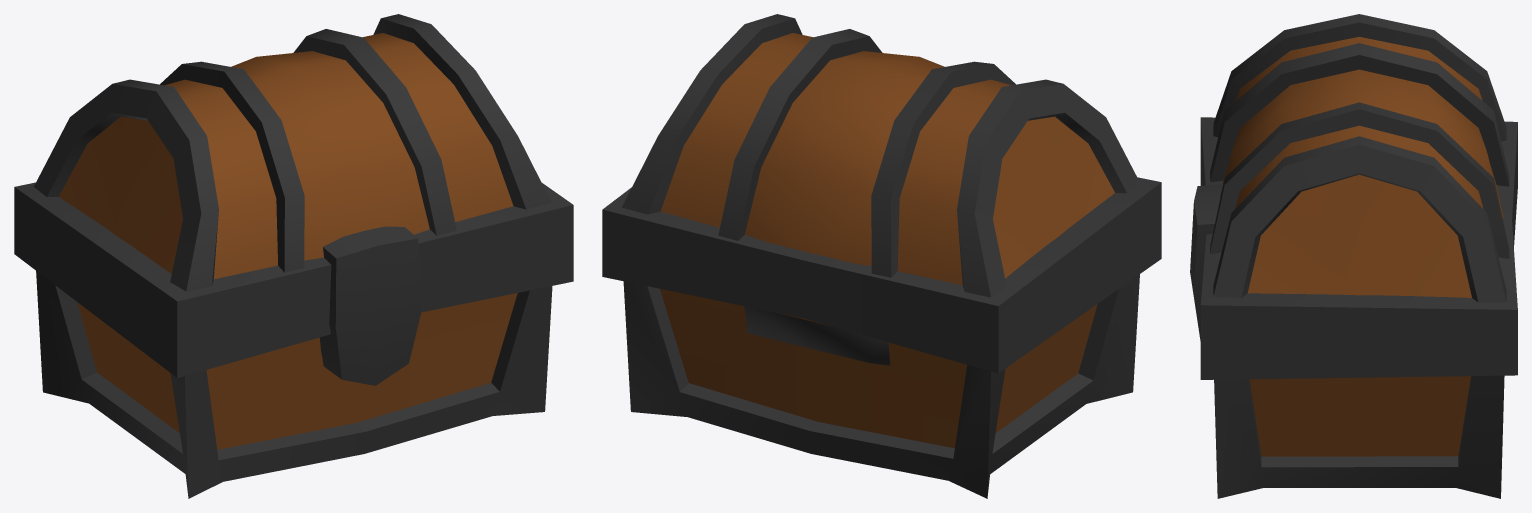
File: Chest.glb
The picture shows the model from 3 angles, left to right: view 1: azimuth 30°, elevation 25°; view 2: azimuth 150°, elevation 25°; view 3: azimuth 270°, elevation 25°; orthographic projection. The views are drawn at different scales.
Parts seen in each view (by area): view 1: Chest; view 2: Chest; view 3: Chest.
Part boxes in pixels (bbox=[...]): Chest: bbox=[14, 14, 573, 498]; Chest: bbox=[602, 14, 1161, 498]; Chest: bbox=[1190, 14, 1517, 498].
Bounding box in the file's own units: 1.91 × 1.6 × 1.41.
